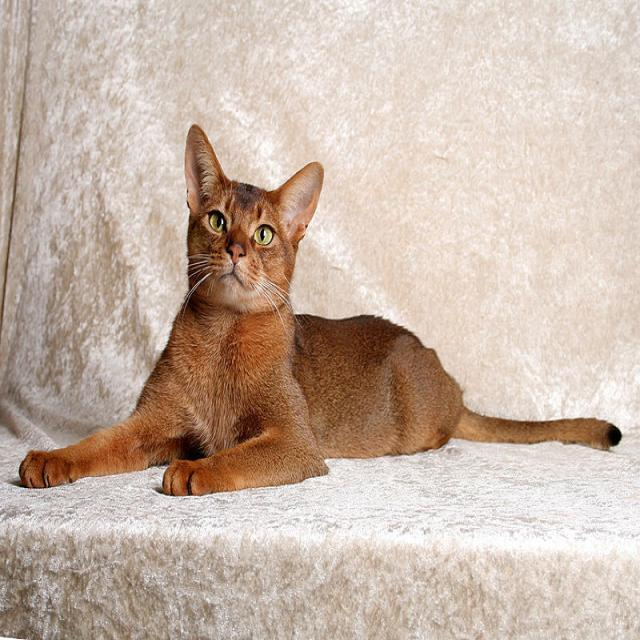Abyssinian: (183, 123, 322, 300)
